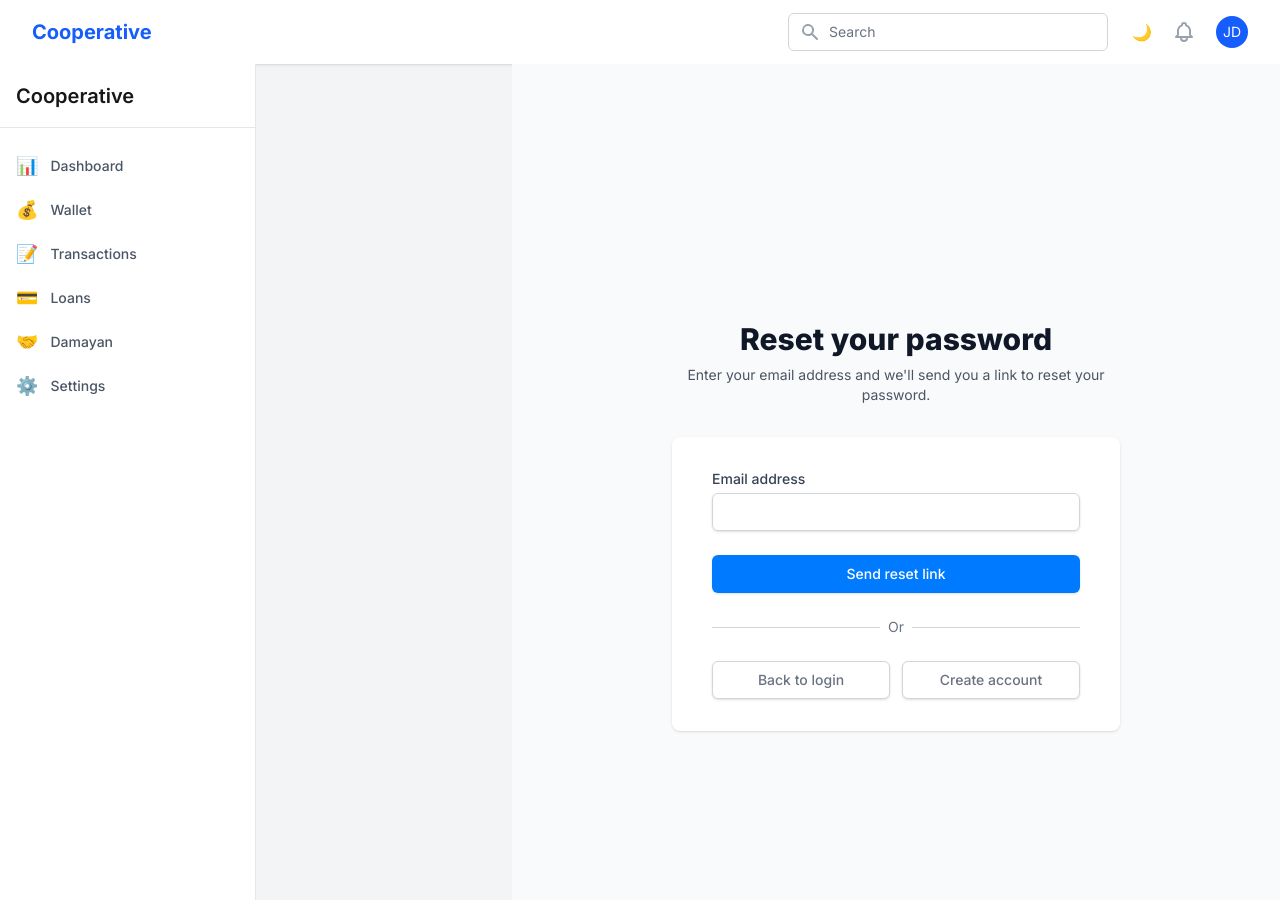
Test: ForgotPasswordPage › should handle form submission
expect the heading "Reset your password" is shown: met, box [740,321,1052,357]
# Fill in the form
Step 1. Type "test@example.com" into the field labelled "Email address" → point(896, 512), box [712,493,1080,531]
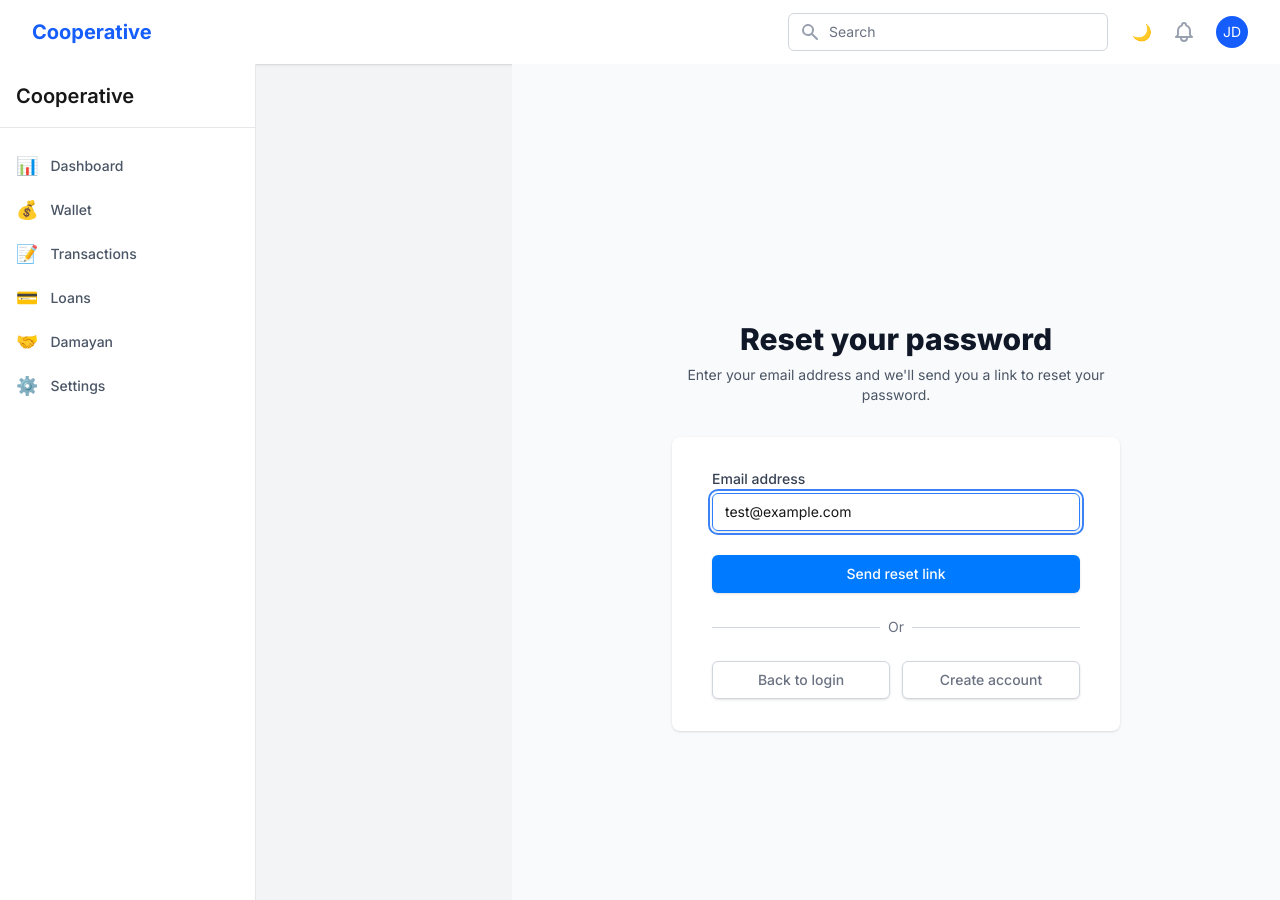
# Submit the form
Step 2. Click the button "Send reset link" → point(896, 574), box [712,555,1080,593]
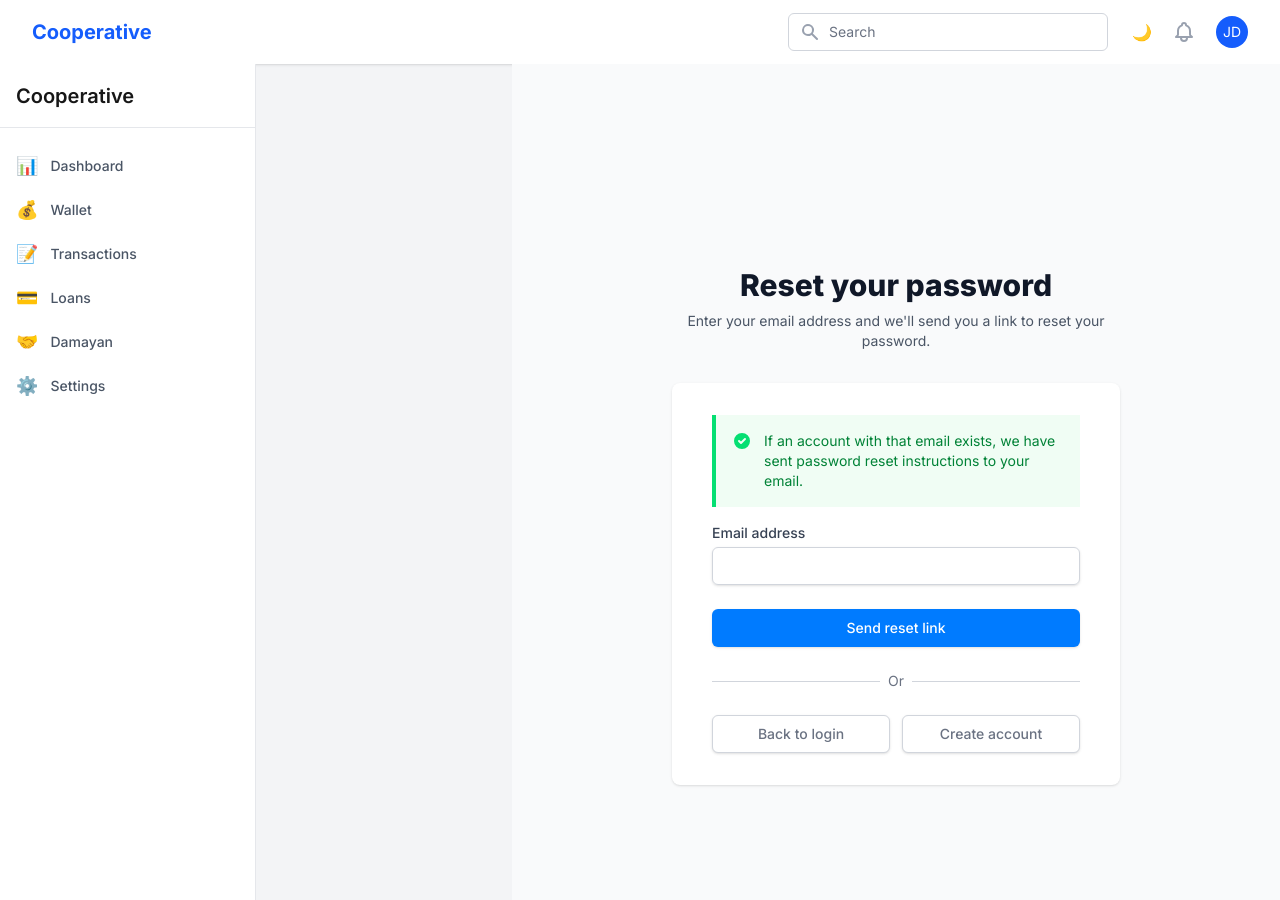
expect the text "If an account with that email exists" is shown: met, box [764,432,1055,489]
expect the field labelled "Email address" is empty: met, box [712,547,1080,585]
